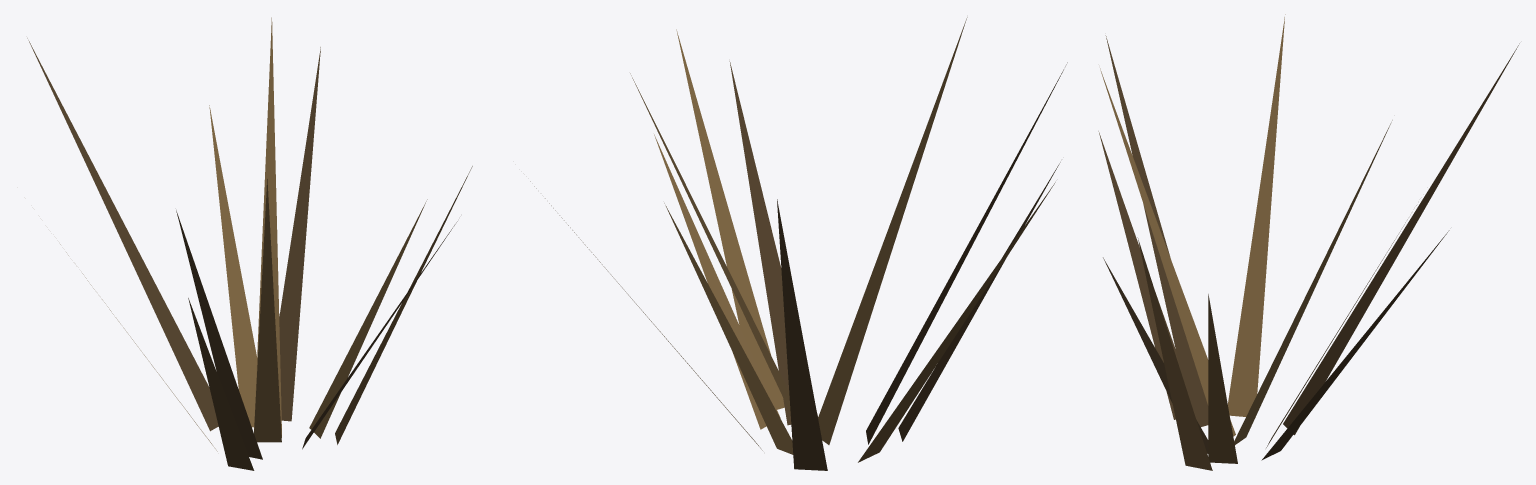
File: scablands_shrub_dry.glb
The picture shows the model from 3 angles, left to right: view 1: azimuth 30°, elevation 25°; view 2: azimuth 150°, elevation 25°; view 3: azimuth 270°, elevation 25°; orthographic projection. The views are drawn at different scales.
Parts seen in each view (by area): view 1: scablands_shrub_dry; view 2: scablands_shrub_dry; view 3: scablands_shrub_dry.
Boxes of the visible parts, box(x1,y1,x2,y2) form: scablands_shrub_dry: box(27, 17, 472, 470); scablands_shrub_dry: box(530, 17, 1067, 470); scablands_shrub_dry: box(1098, 14, 1519, 470).
Bounding box in the file's own units: 0.6345 × 0.5429 × 0.5652.
